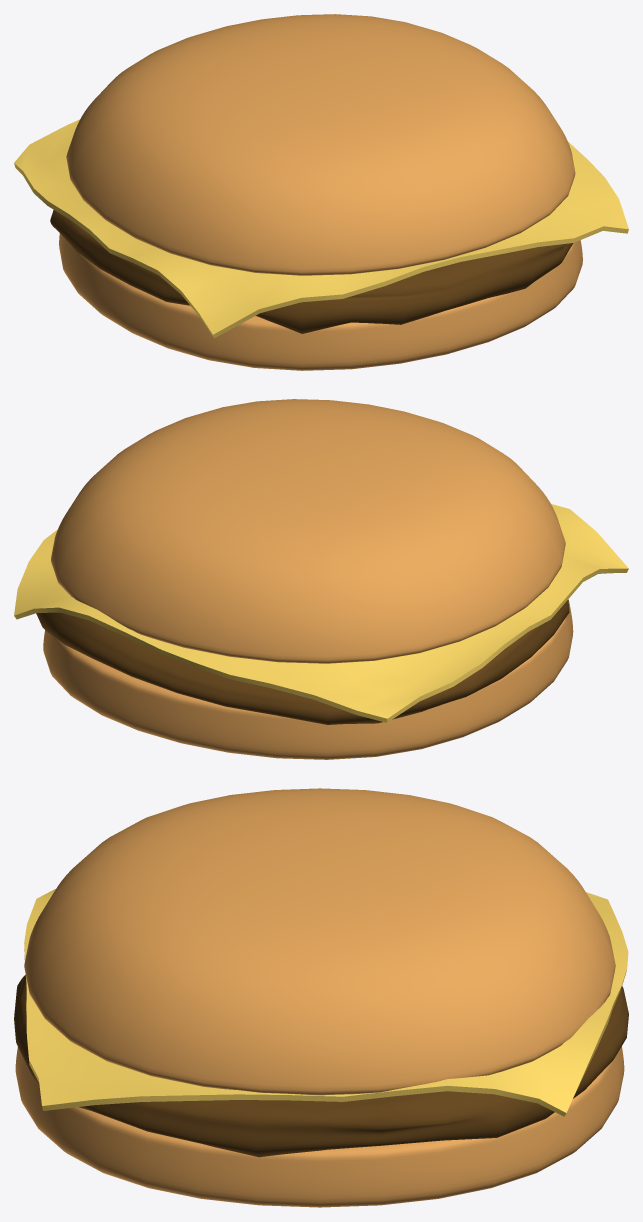
Rendered from burger.glb.
3 renders of one model, top to bottom at view 1: azimuth 30°, elevation 25°; view 2: azimuth 150°, elevation 25°; view 3: azimuth 270°, elevation 25°, orthographic. The views are drawn at different scales.
Visible parts, largest first — view 1: topbun, bottombun, cheese, meat; view 2: topbun, bottombun, cheese, meat; view 3: topbun, bottombun, meat, cheese.
Boxes of the visible parts, x1,y1,x2,y2 form: topbun: [66, 14, 575, 275]; bottombun: [59, 233, 582, 370]; cheese: [14, 119, 628, 338]; meat: [50, 210, 573, 333]; topbun: [51, 399, 565, 663]; bottombun: [43, 599, 573, 759]; cheese: [14, 504, 628, 722]; meat: [36, 600, 569, 724]; topbun: [24, 788, 615, 1095]; bottombun: [15, 1046, 624, 1207]; meat: [14, 975, 628, 1157]; cheese: [24, 889, 628, 1116].
Bounding box in the file's own units: 9.94 × 4.31 × 9.91.
